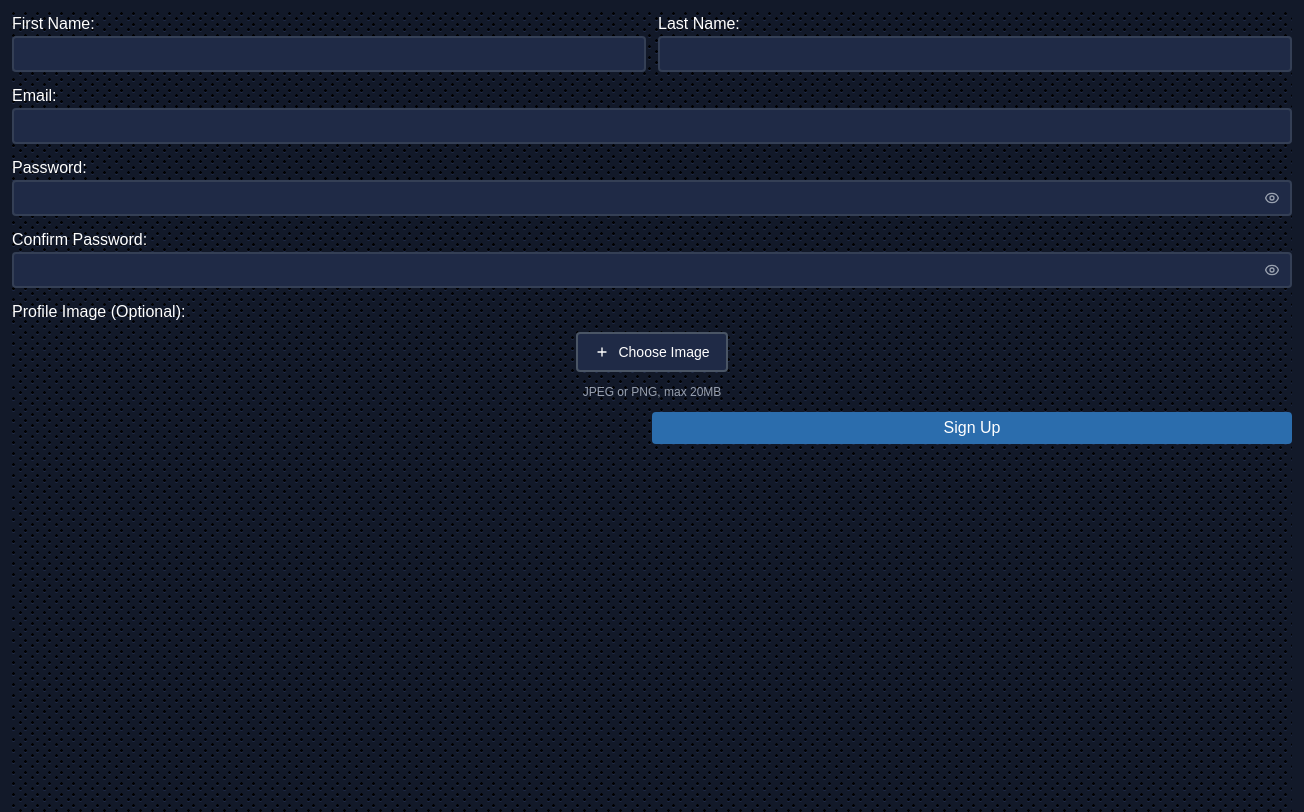
Scenario: SignUpForm › shows fallback error when response is not valid JSON
In the field labelled "First Name:": [329, 54] box [12,36,646,72], type "John"
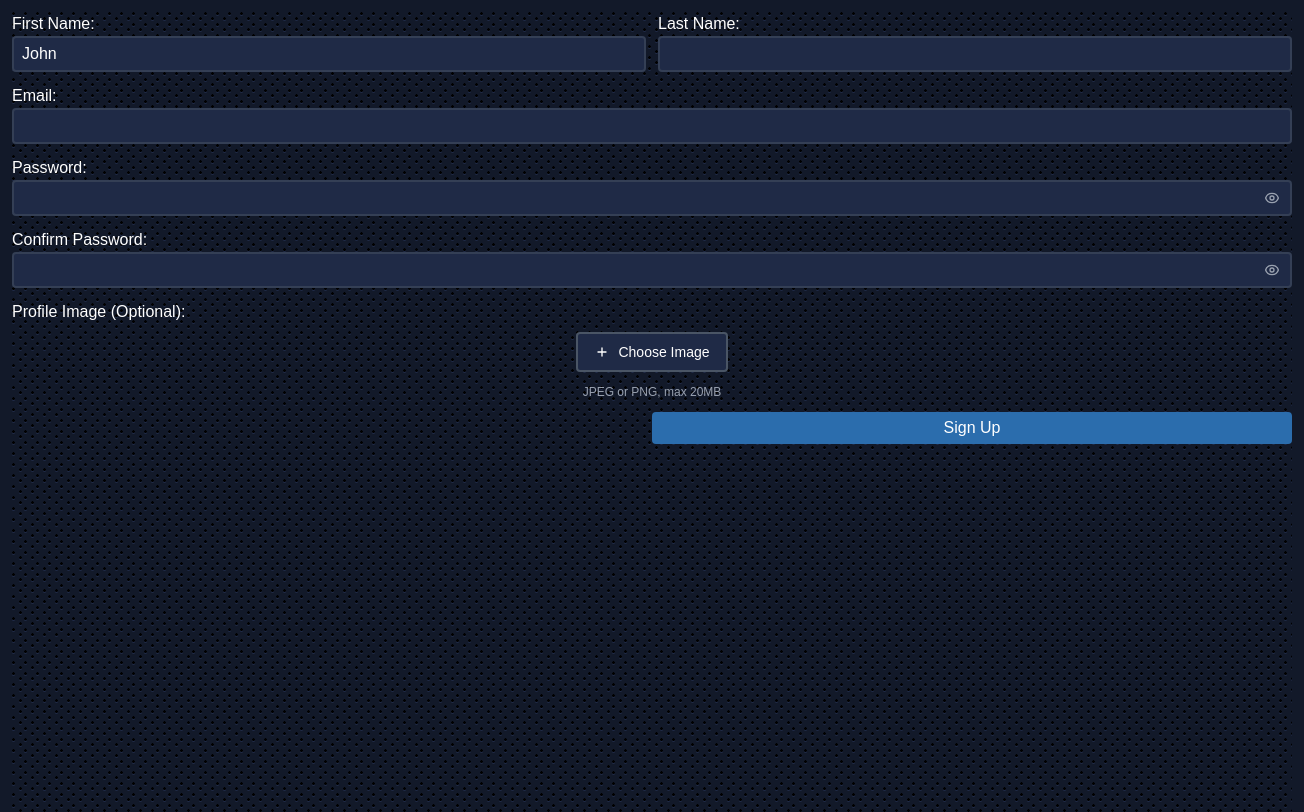
In the field labelled "Last Name:": [975, 54] box [658,36,1292,72], type "Doe"
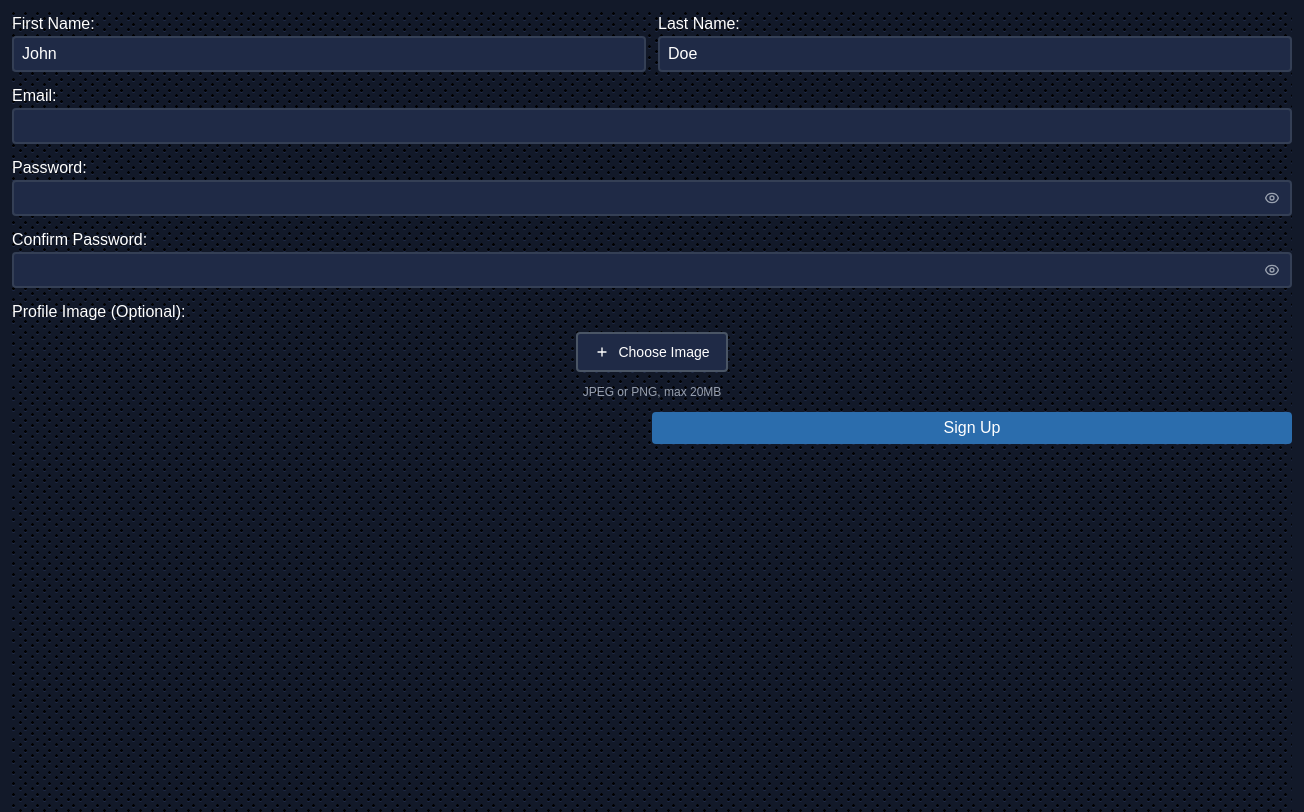
In the field labelled "Email:": [652, 126] box [12,108,1292,144], type "fail@example.com"
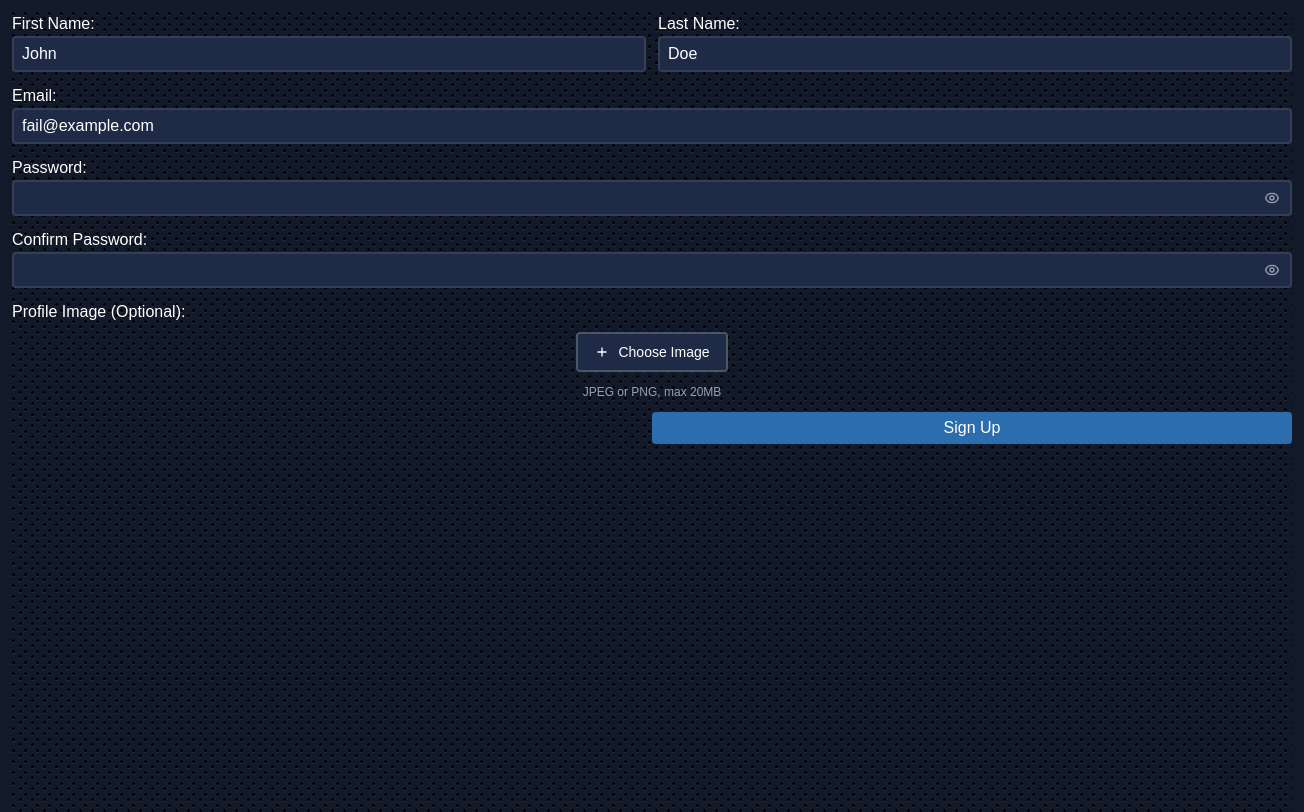
In the password field labelled "Password:": [652, 198] box [12,180,1292,216], type "P@ssword123"
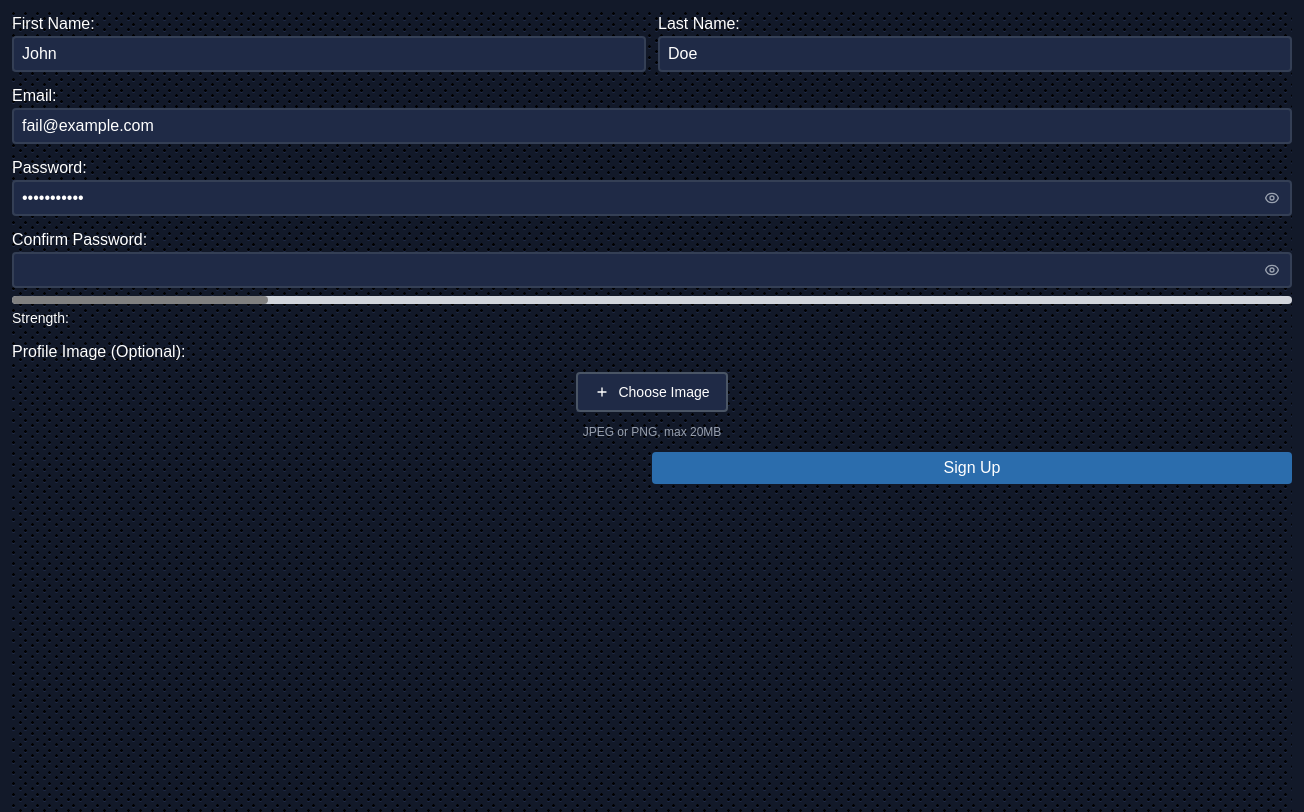
In the password field labelled "Confirm Password:": [652, 270] box [12,252,1292,288], type "P@ssword123"
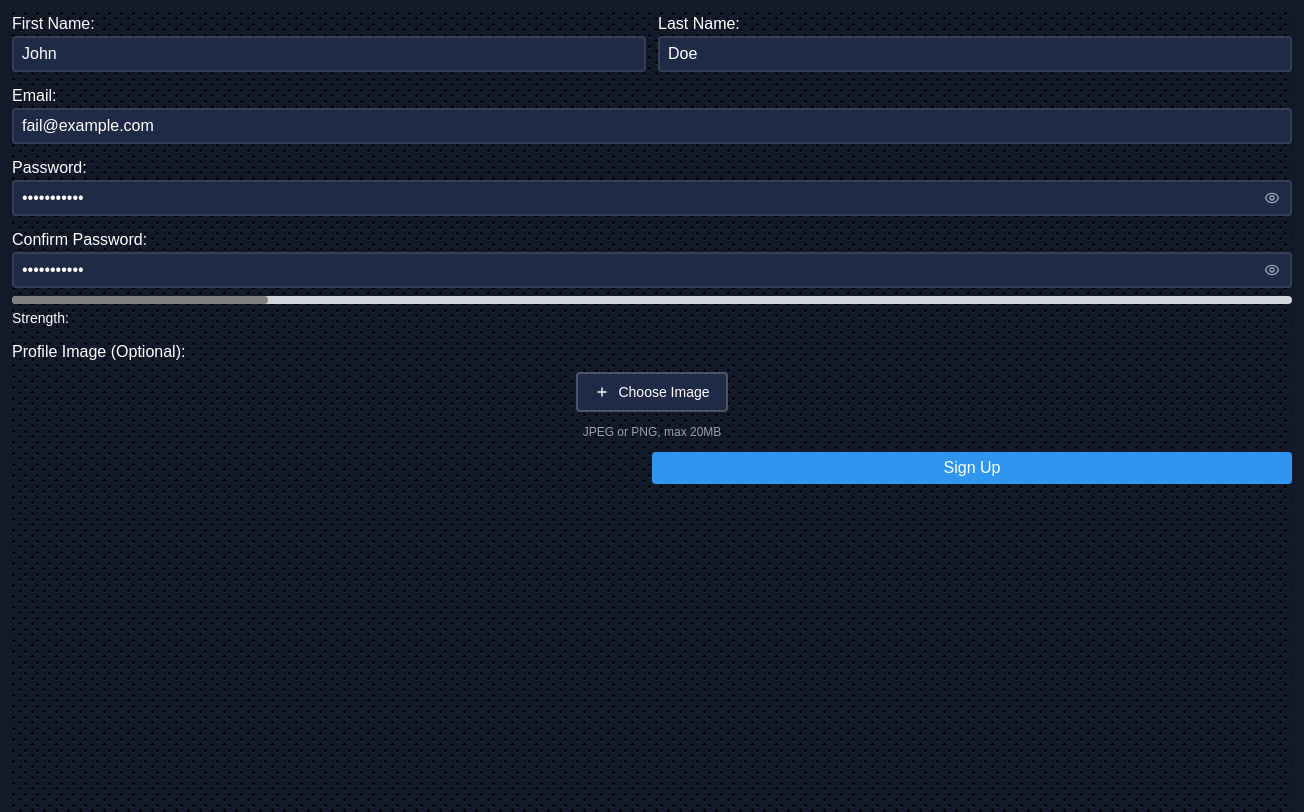
Click the button with aria-label "submit-signup": [972, 468] box [652,452,1292,484]
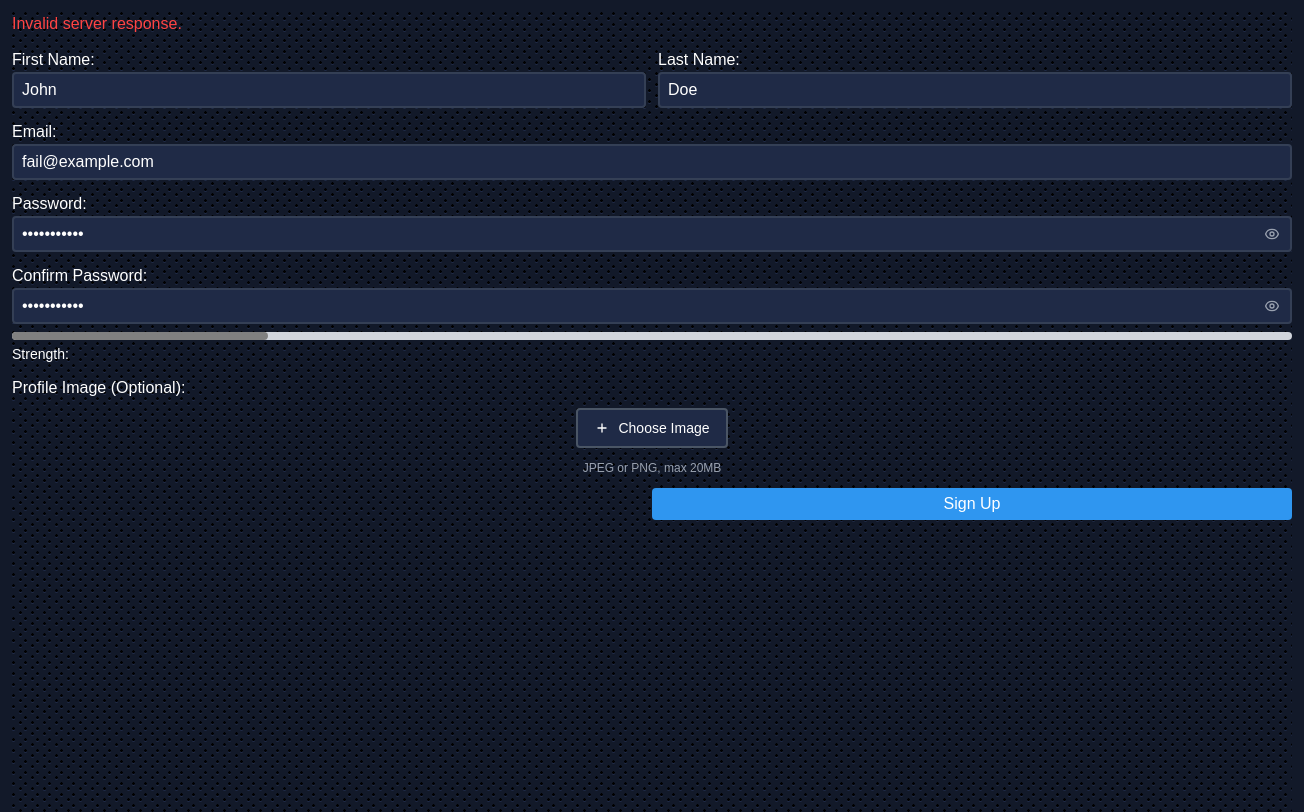
Now the text "Invalid server response." is shown, box [12,15,182,32]
